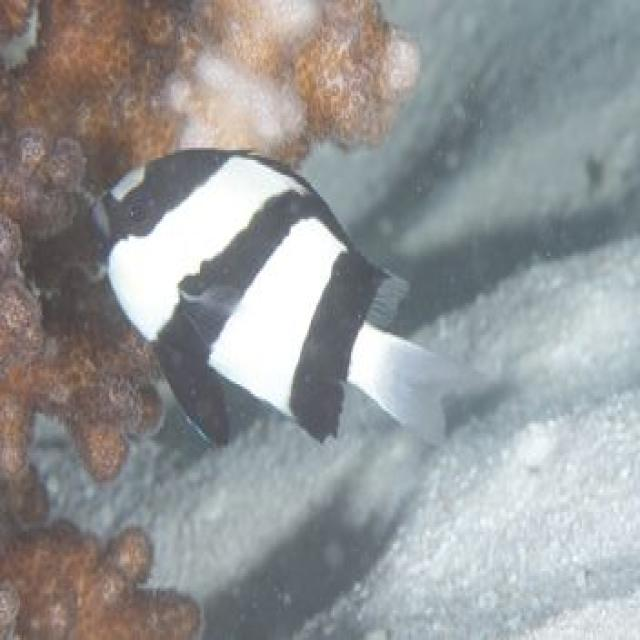ThreeStripedDamselfish: (87, 150, 460, 448)
